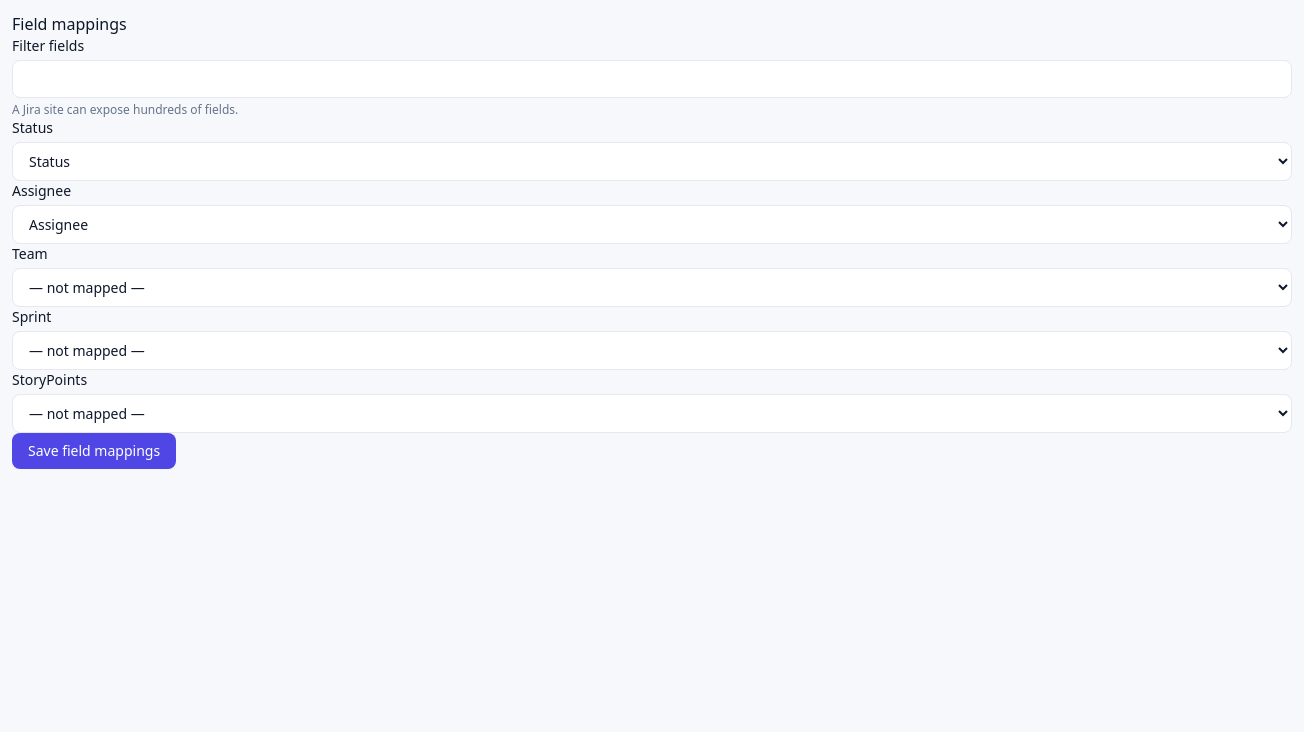
Test case: FieldMappingsEditor › offers a re-derive after a save, because a sync only re-models what it fetched
The image size is (1304, 732).
Select "Story Points" in the dropdown labelled "StoryPoints" at x=652, y=414, box [12,394,1292,433]
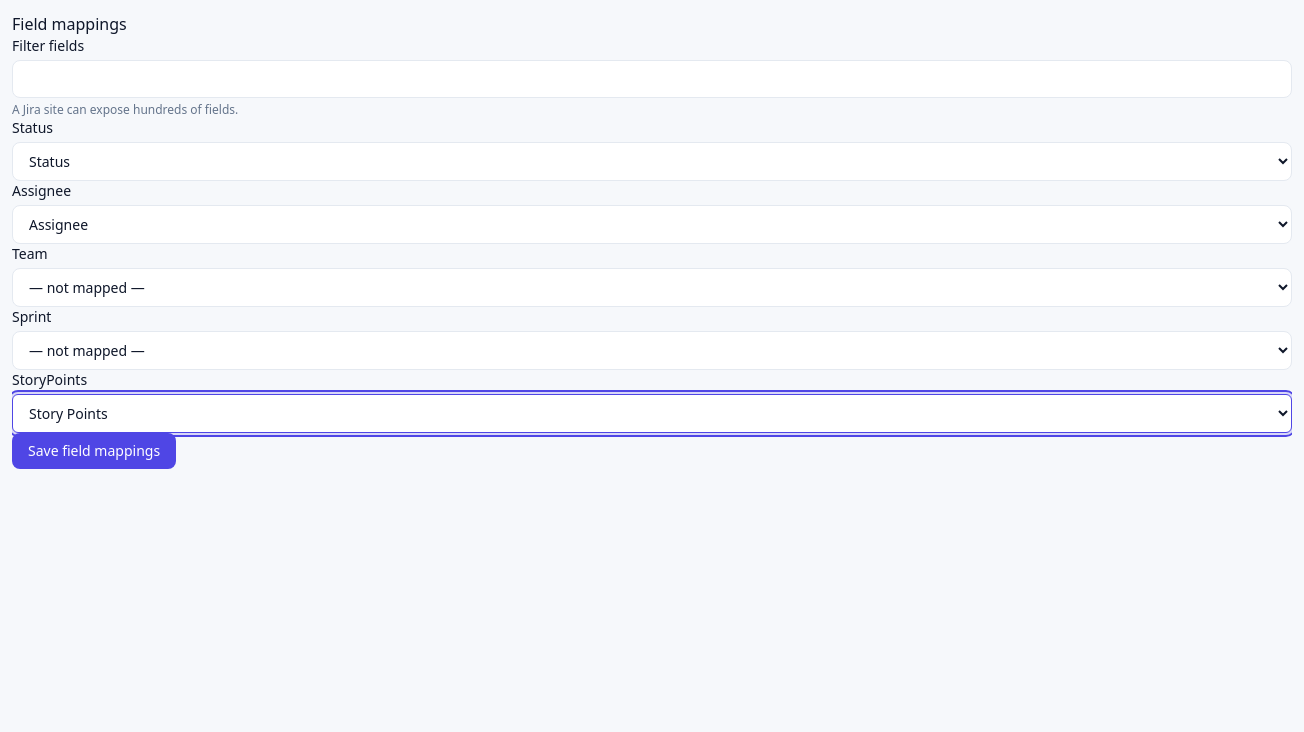
Click the button "Save field mappings" at x=94, y=451, box [12,433,176,469]
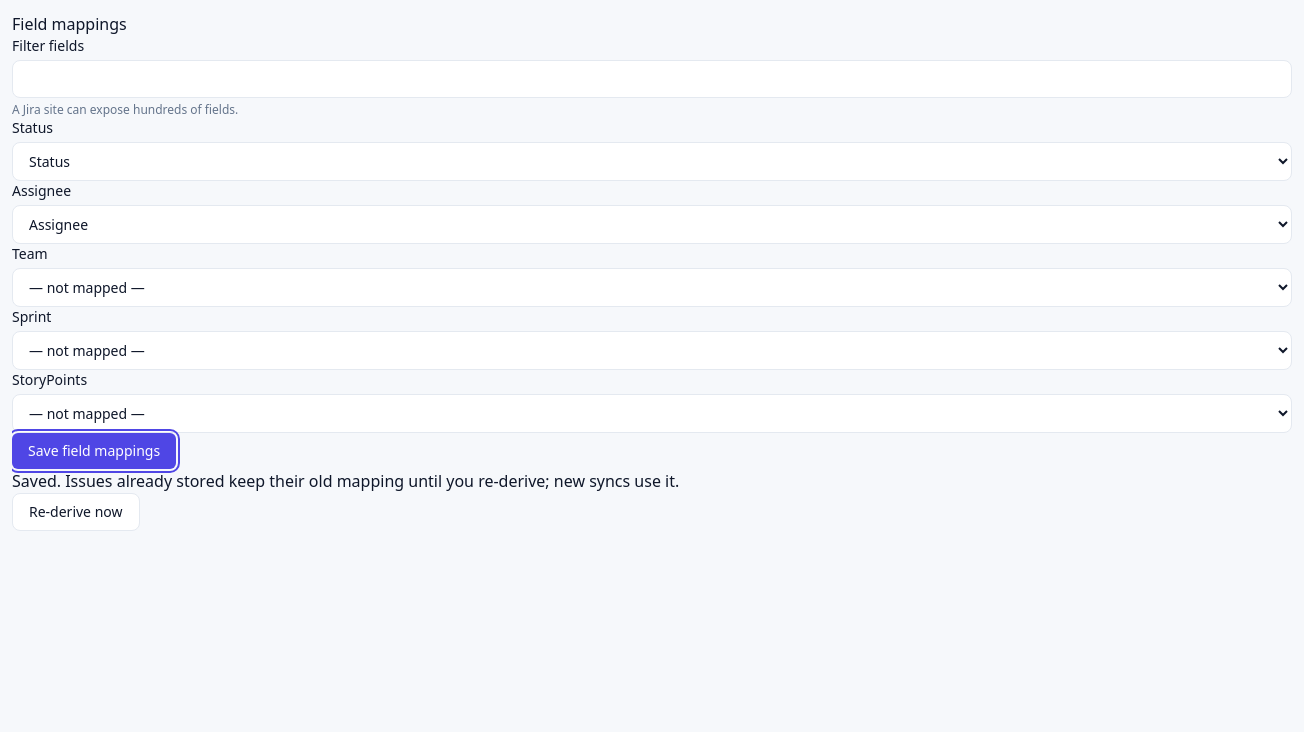
Check: the text "keep their old mapping until you re-derive" is shown, box [12,470,679,492]
Click the button "Re-derive now" at x=76, y=512, box [12,493,140,531]
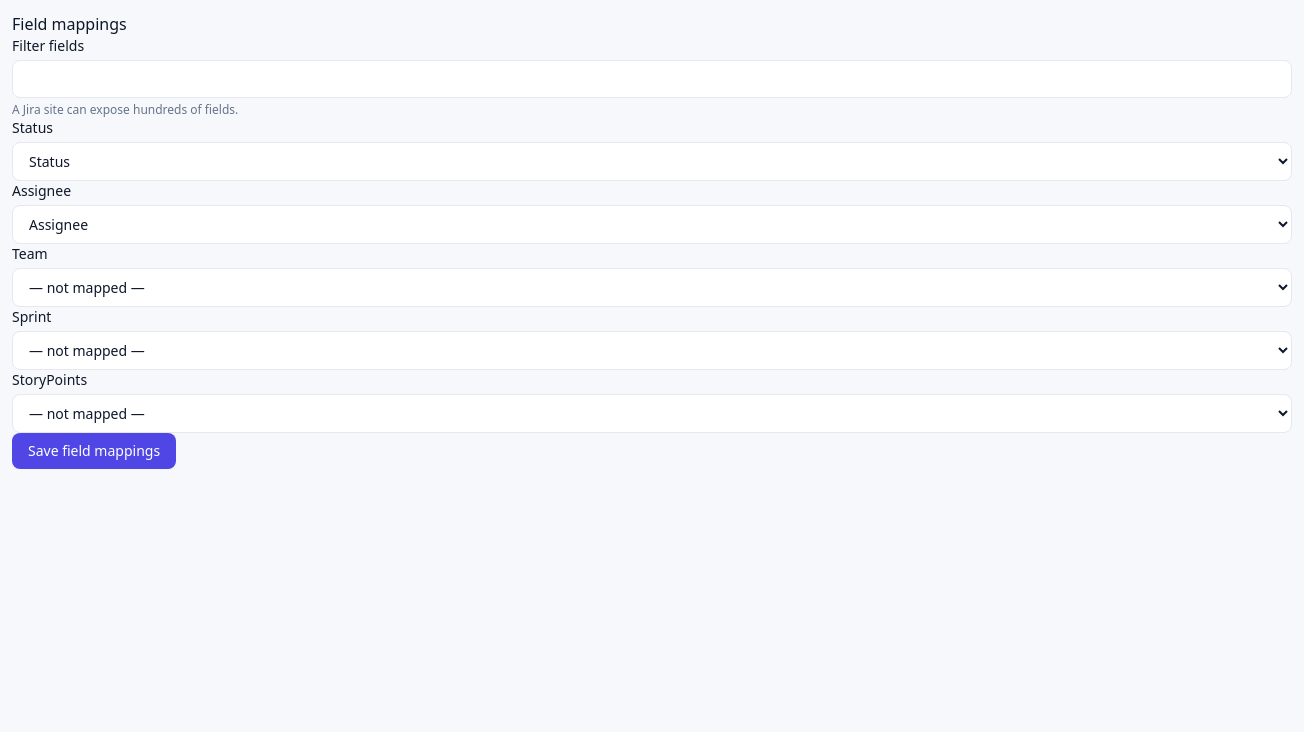
Check: the button "Re-derive now" is gone
